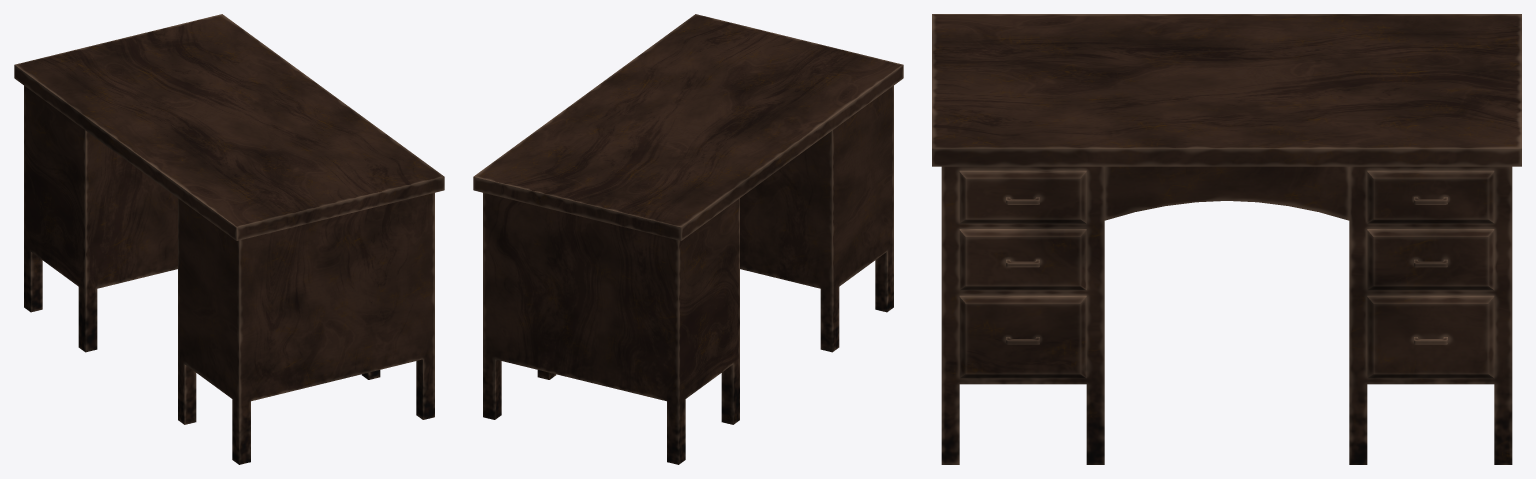
Rendered from desk.glb.
The picture shows the model from 3 angles, left to right: view 1: azimuth 30°, elevation 25°; view 2: azimuth 150°, elevation 25°; view 3: azimuth 270°, elevation 25°; orthographic projection. The views are drawn at different scales.
Parts seen in each view (by area): view 1: Workdesk_baked; view 2: Workdesk_baked; view 3: Workdesk_baked.
Boxes of the visible parts, x1,y1,x2,y2 form: Workdesk_baked: (14,14,444,464); Workdesk_baked: (473,14,903,464); Workdesk_baked: (932,14,1521,464).
Bounding box in the file's own units: 1.78 × 1.94 × 3.24.
1 material, 1 textured.
